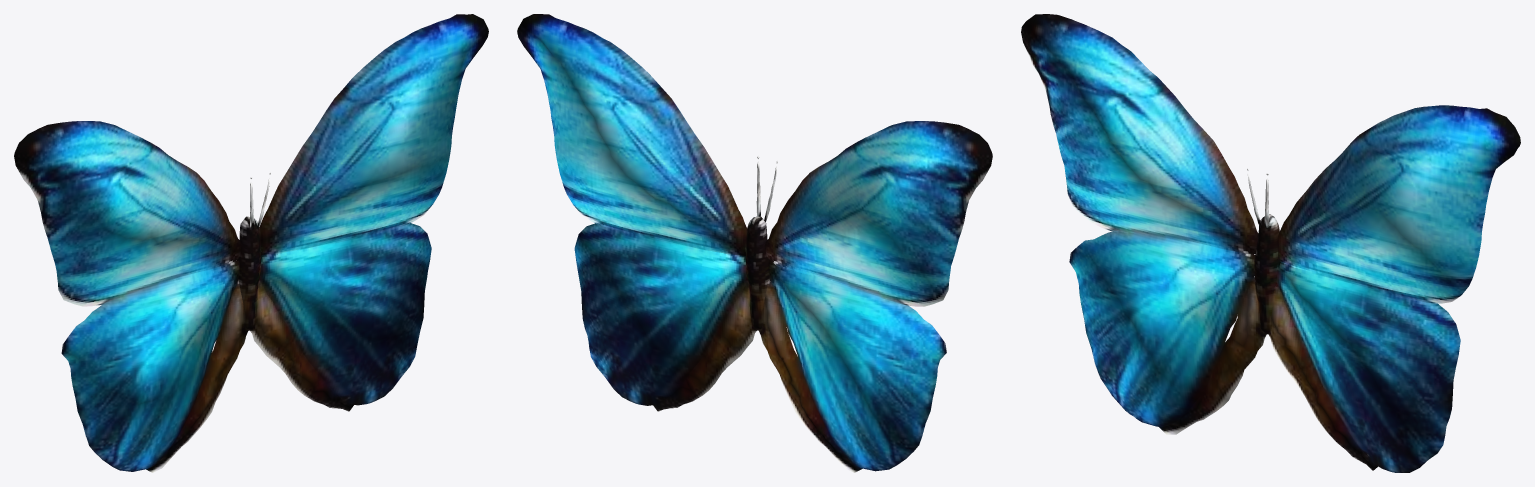
The model's file is motyl.glb.
The picture shows the model from 3 angles, left to right: view 1: azimuth 30°, elevation 25°; view 2: azimuth 150°, elevation 25°; view 3: azimuth 330°, elevation 25°; orthographic projection. The views are drawn at different scales.
Bounding box in the file's own units: 184 × 142 × 13.89.
Materials: 1 (1 with a texture image).
